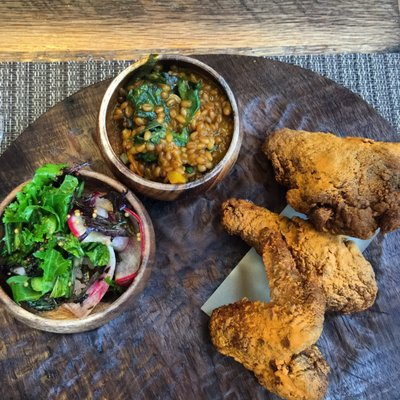sushi: (0, 161, 156, 336), (95, 53, 243, 202)
